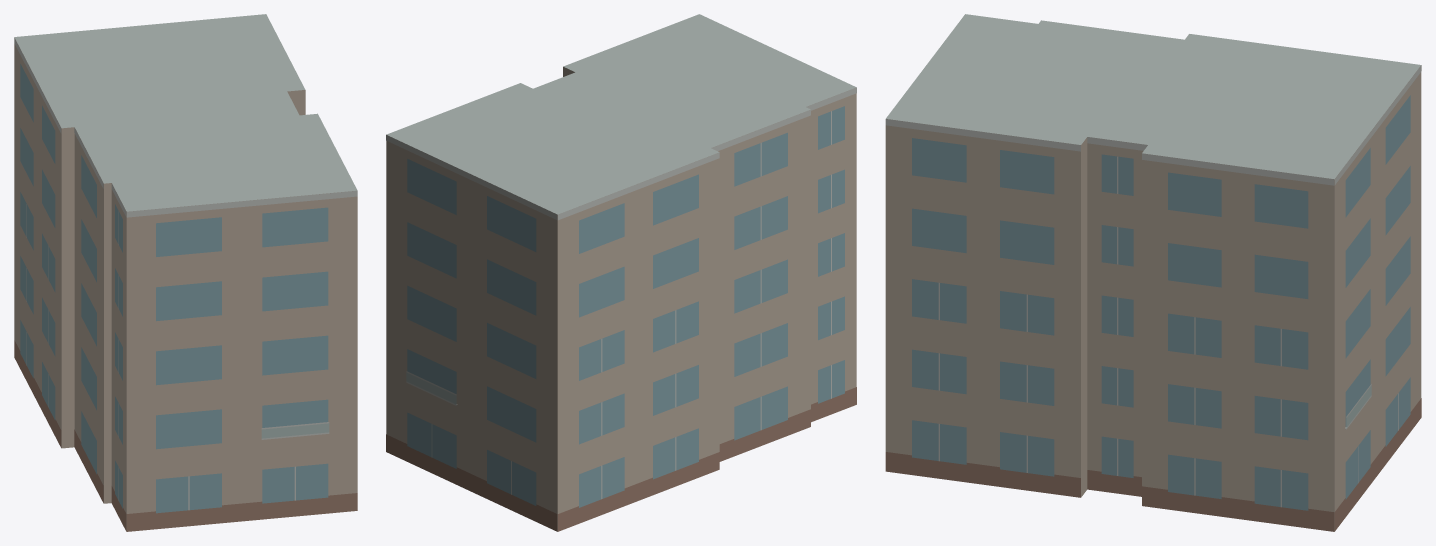
File: survey-upis-32976900.glb
3 views of the same model, side by side, from view 1: azimuth 30°, elevation 25°; view 2: azimuth 150°, elevation 25°; view 3: azimuth 270°, elevation 25° (orthographic). The views are drawn at different scales.
Parts seen in each view (by area): view 1: survey-upis-32976900.tmp; view 2: survey-upis-32976900.tmp; view 3: survey-upis-32976900.tmp.
Boxes of the visible parts, bbox=[...] form: survey-upis-32976900.tmp: bbox=[14, 14, 357, 531]; survey-upis-32976900.tmp: bbox=[386, 14, 856, 531]; survey-upis-32976900.tmp: bbox=[885, 14, 1421, 531].
Bounding box in the file's own units: 13.27 × 13.2 × 18.18.
